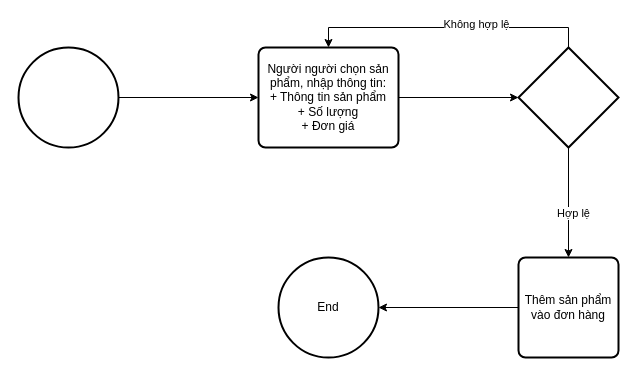
The diagram is 636 pixels wide and 375 high, and some of its shapes have lost their labels. Here are the shapes that lost their labels. From the top down, the box of each, then its label:
(17, 46, 119, 148): Thêm sản phẩm mới vào đơn hàng
(517, 46, 619, 148): Kiểm tra thông tin
